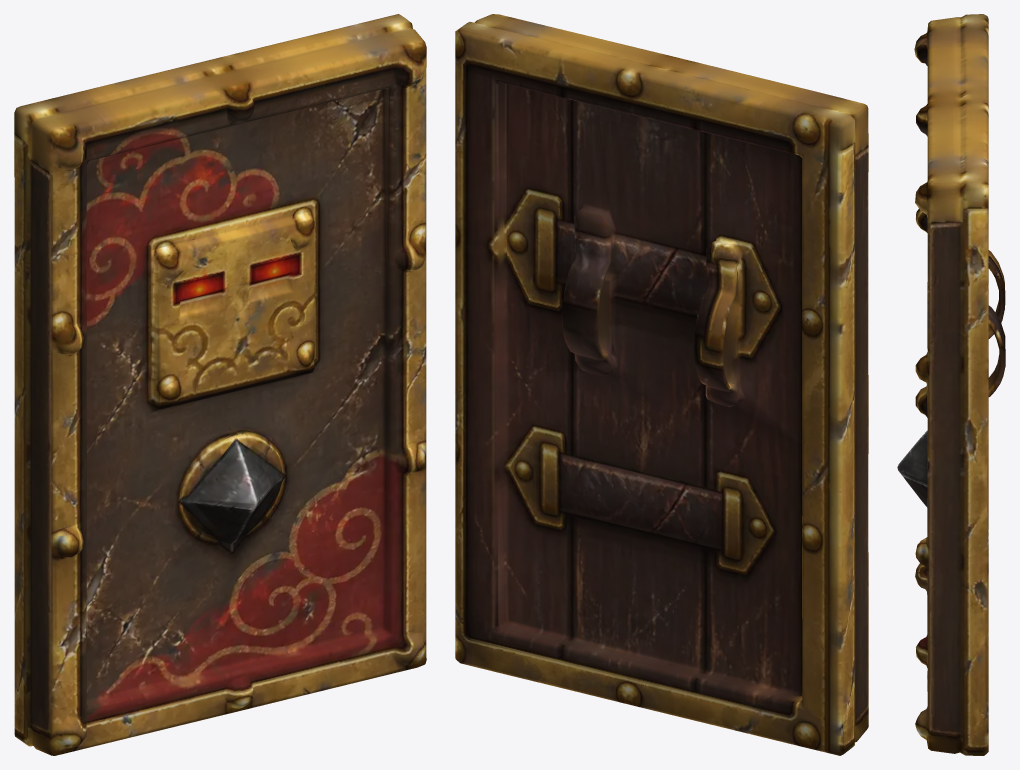
The model's file is SM_EnemyWeapon_TowerShield.glb.
The picture shows the model from 3 angles, left to right: view 1: azimuth 30°, elevation 25°; view 2: azimuth 150°, elevation 25°; view 3: azimuth 270°, elevation 25°; orthographic projection. The views are drawn at different scales.
Visible parts, largest first — view 1: SM_EnemyWeapon_TowerShield_LOD0; view 2: SM_EnemyWeapon_TowerShield_LOD0; view 3: SM_EnemyWeapon_TowerShield_LOD0.
Part boxes in pixels (box(x1,y1,x2,y2)): SM_EnemyWeapon_TowerShield_LOD0: box(14, 14, 426, 755); SM_EnemyWeapon_TowerShield_LOD0: box(455, 14, 868, 755); SM_EnemyWeapon_TowerShield_LOD0: box(897, 14, 1005, 755).
Size of the model in its own units: 0.8423 by 1.31 by 0.2232.
Materials: 1 (1 with a texture image).
